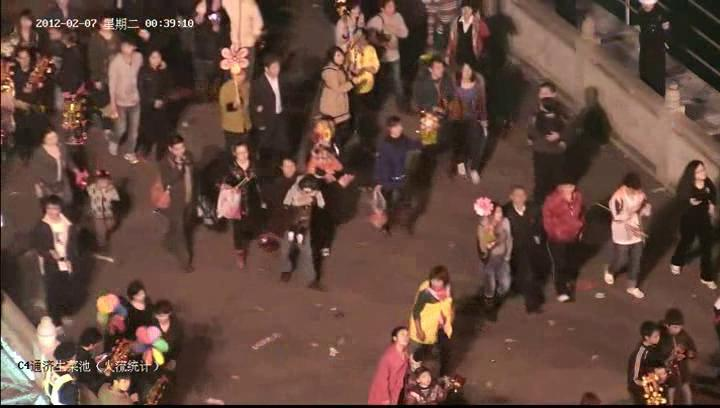person: (32, 195, 97, 324), (152, 130, 205, 272), (602, 171, 659, 302), (667, 156, 720, 294), (217, 136, 267, 267), (540, 176, 590, 306), (409, 57, 457, 184), (474, 199, 517, 322), (105, 34, 144, 164), (453, 57, 492, 185), (369, 0, 412, 116), (371, 114, 411, 238), (251, 50, 294, 162), (525, 76, 571, 179), (510, 185, 542, 318), (318, 43, 356, 154), (624, 316, 670, 405), (367, 325, 415, 406), (29, 123, 73, 210), (139, 47, 172, 155), (664, 307, 700, 405), (84, 164, 124, 248), (447, 3, 493, 62), (153, 297, 184, 374), (124, 278, 154, 342), (407, 364, 452, 405)
